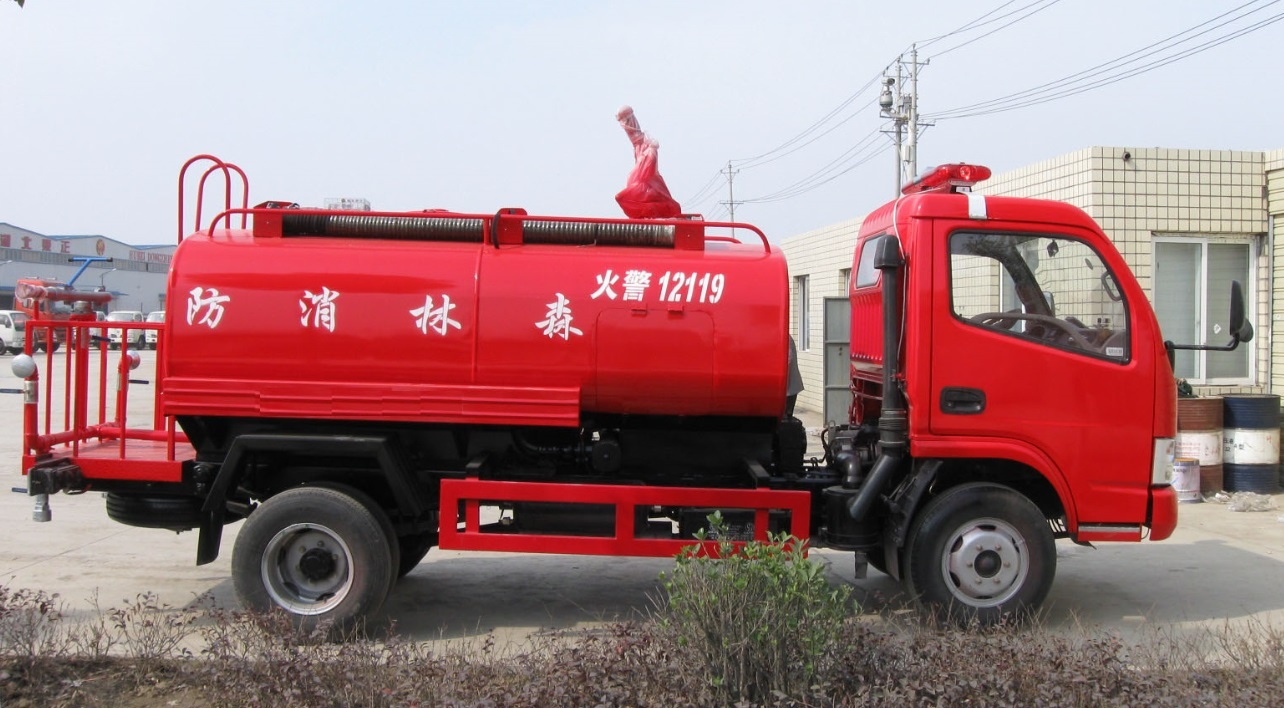fire engine: (10, 108, 1191, 628)
